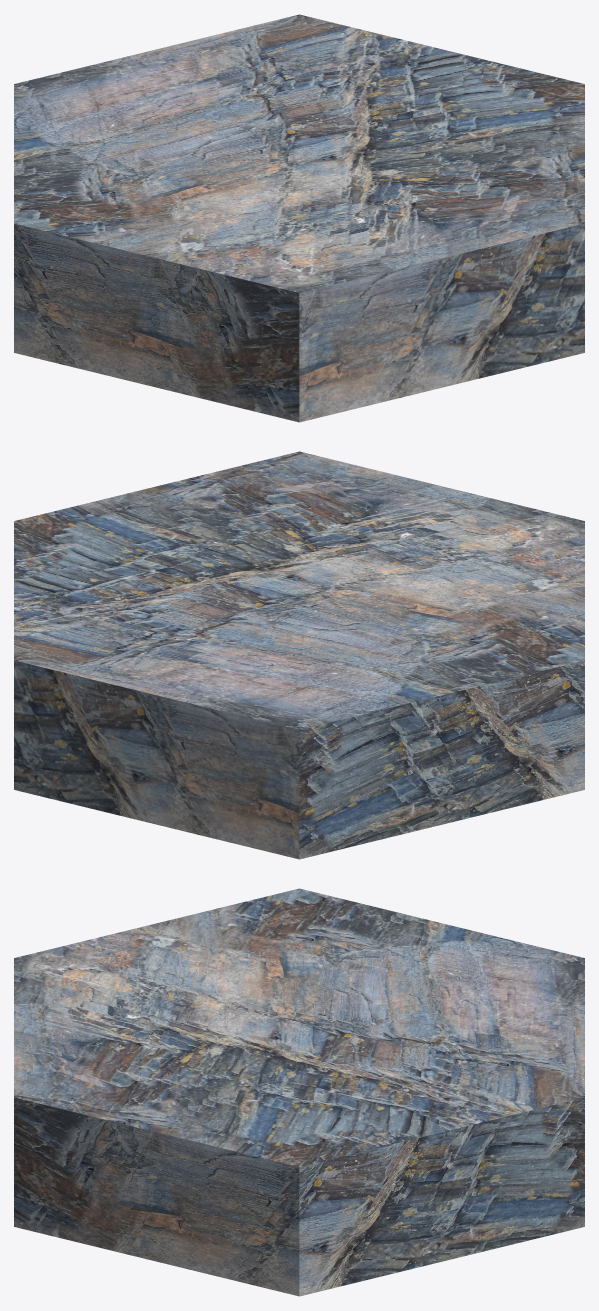
File: rock_hex_tile.glb
3 renders of one model, top to bottom at view 1: azimuth 30°, elevation 25°; view 2: azimuth 150°, elevation 25°; view 3: azimuth 270°, elevation 25°, orthographic.
Visible parts, largest first — view 1: rock_hex; view 2: rock_hex; view 3: rock_hex.
Boxes of the visible parts, <box> form: rock_hex: <box>14,14,584,422</box>; rock_hex: <box>14,451,584,859</box>; rock_hex: <box>14,888,584,1296</box>.
Size of the model in its own units: 1.15 by 0.25 by 1.
1 material, 1 textured.
